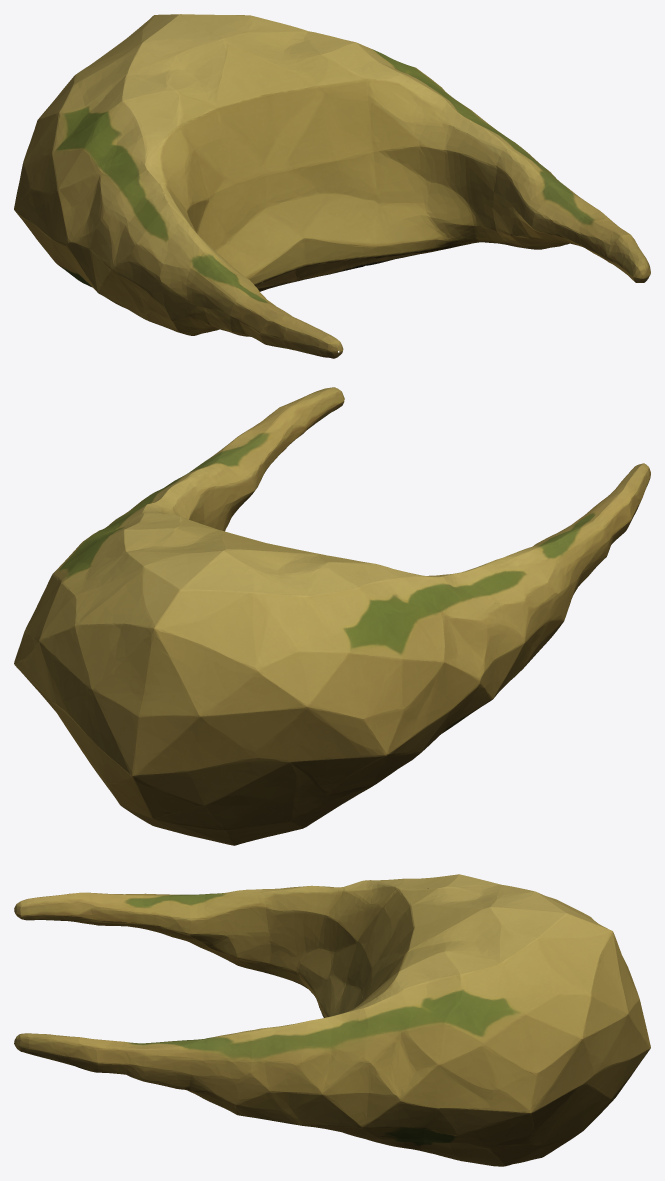
3 views of the same model, one above another, from view 1: azimuth 30°, elevation 25°; view 2: azimuth 150°, elevation 25°; view 3: azimuth 270°, elevation 25° (orthographic). The views are drawn at different scales.
Visible parts, largest first — view 1: world; view 2: world; view 3: world.
Part boxes in pixels (bbox=[...]): world: bbox=[14, 14, 650, 358]; world: bbox=[14, 387, 650, 845]; world: bbox=[14, 874, 650, 1166].
Bounding box in the file's own units: 14.54 × 9.04 × 22.
1 material, 1 textured.
